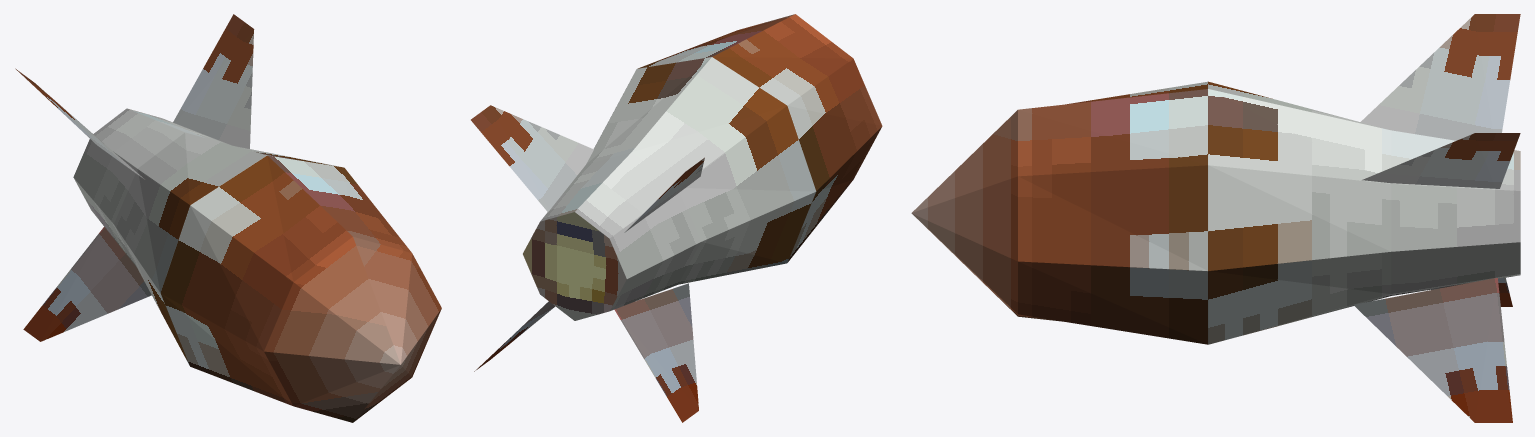
The model's file is WF_rocket.obj.
3 renders of one model, left to right at view 1: azimuth 30°, elevation 25°; view 2: azimuth 150°, elevation 25°; view 3: azimuth 270°, elevation 25°, orthographic. The views are drawn at different scales.
Visible parts, largest first — view 1: Node 0; view 2: Node 0; view 3: Node 0.
Part boxes in pixels (x1,y1,x2,y2): Node 0: [15, 14, 441, 422]; Node 0: [471, 14, 882, 422]; Node 0: [911, 14, 1520, 422].
Size of the model in its own units: 0.37 by 0.42 by 0.8.
Materials: 1 (1 with a texture image).
